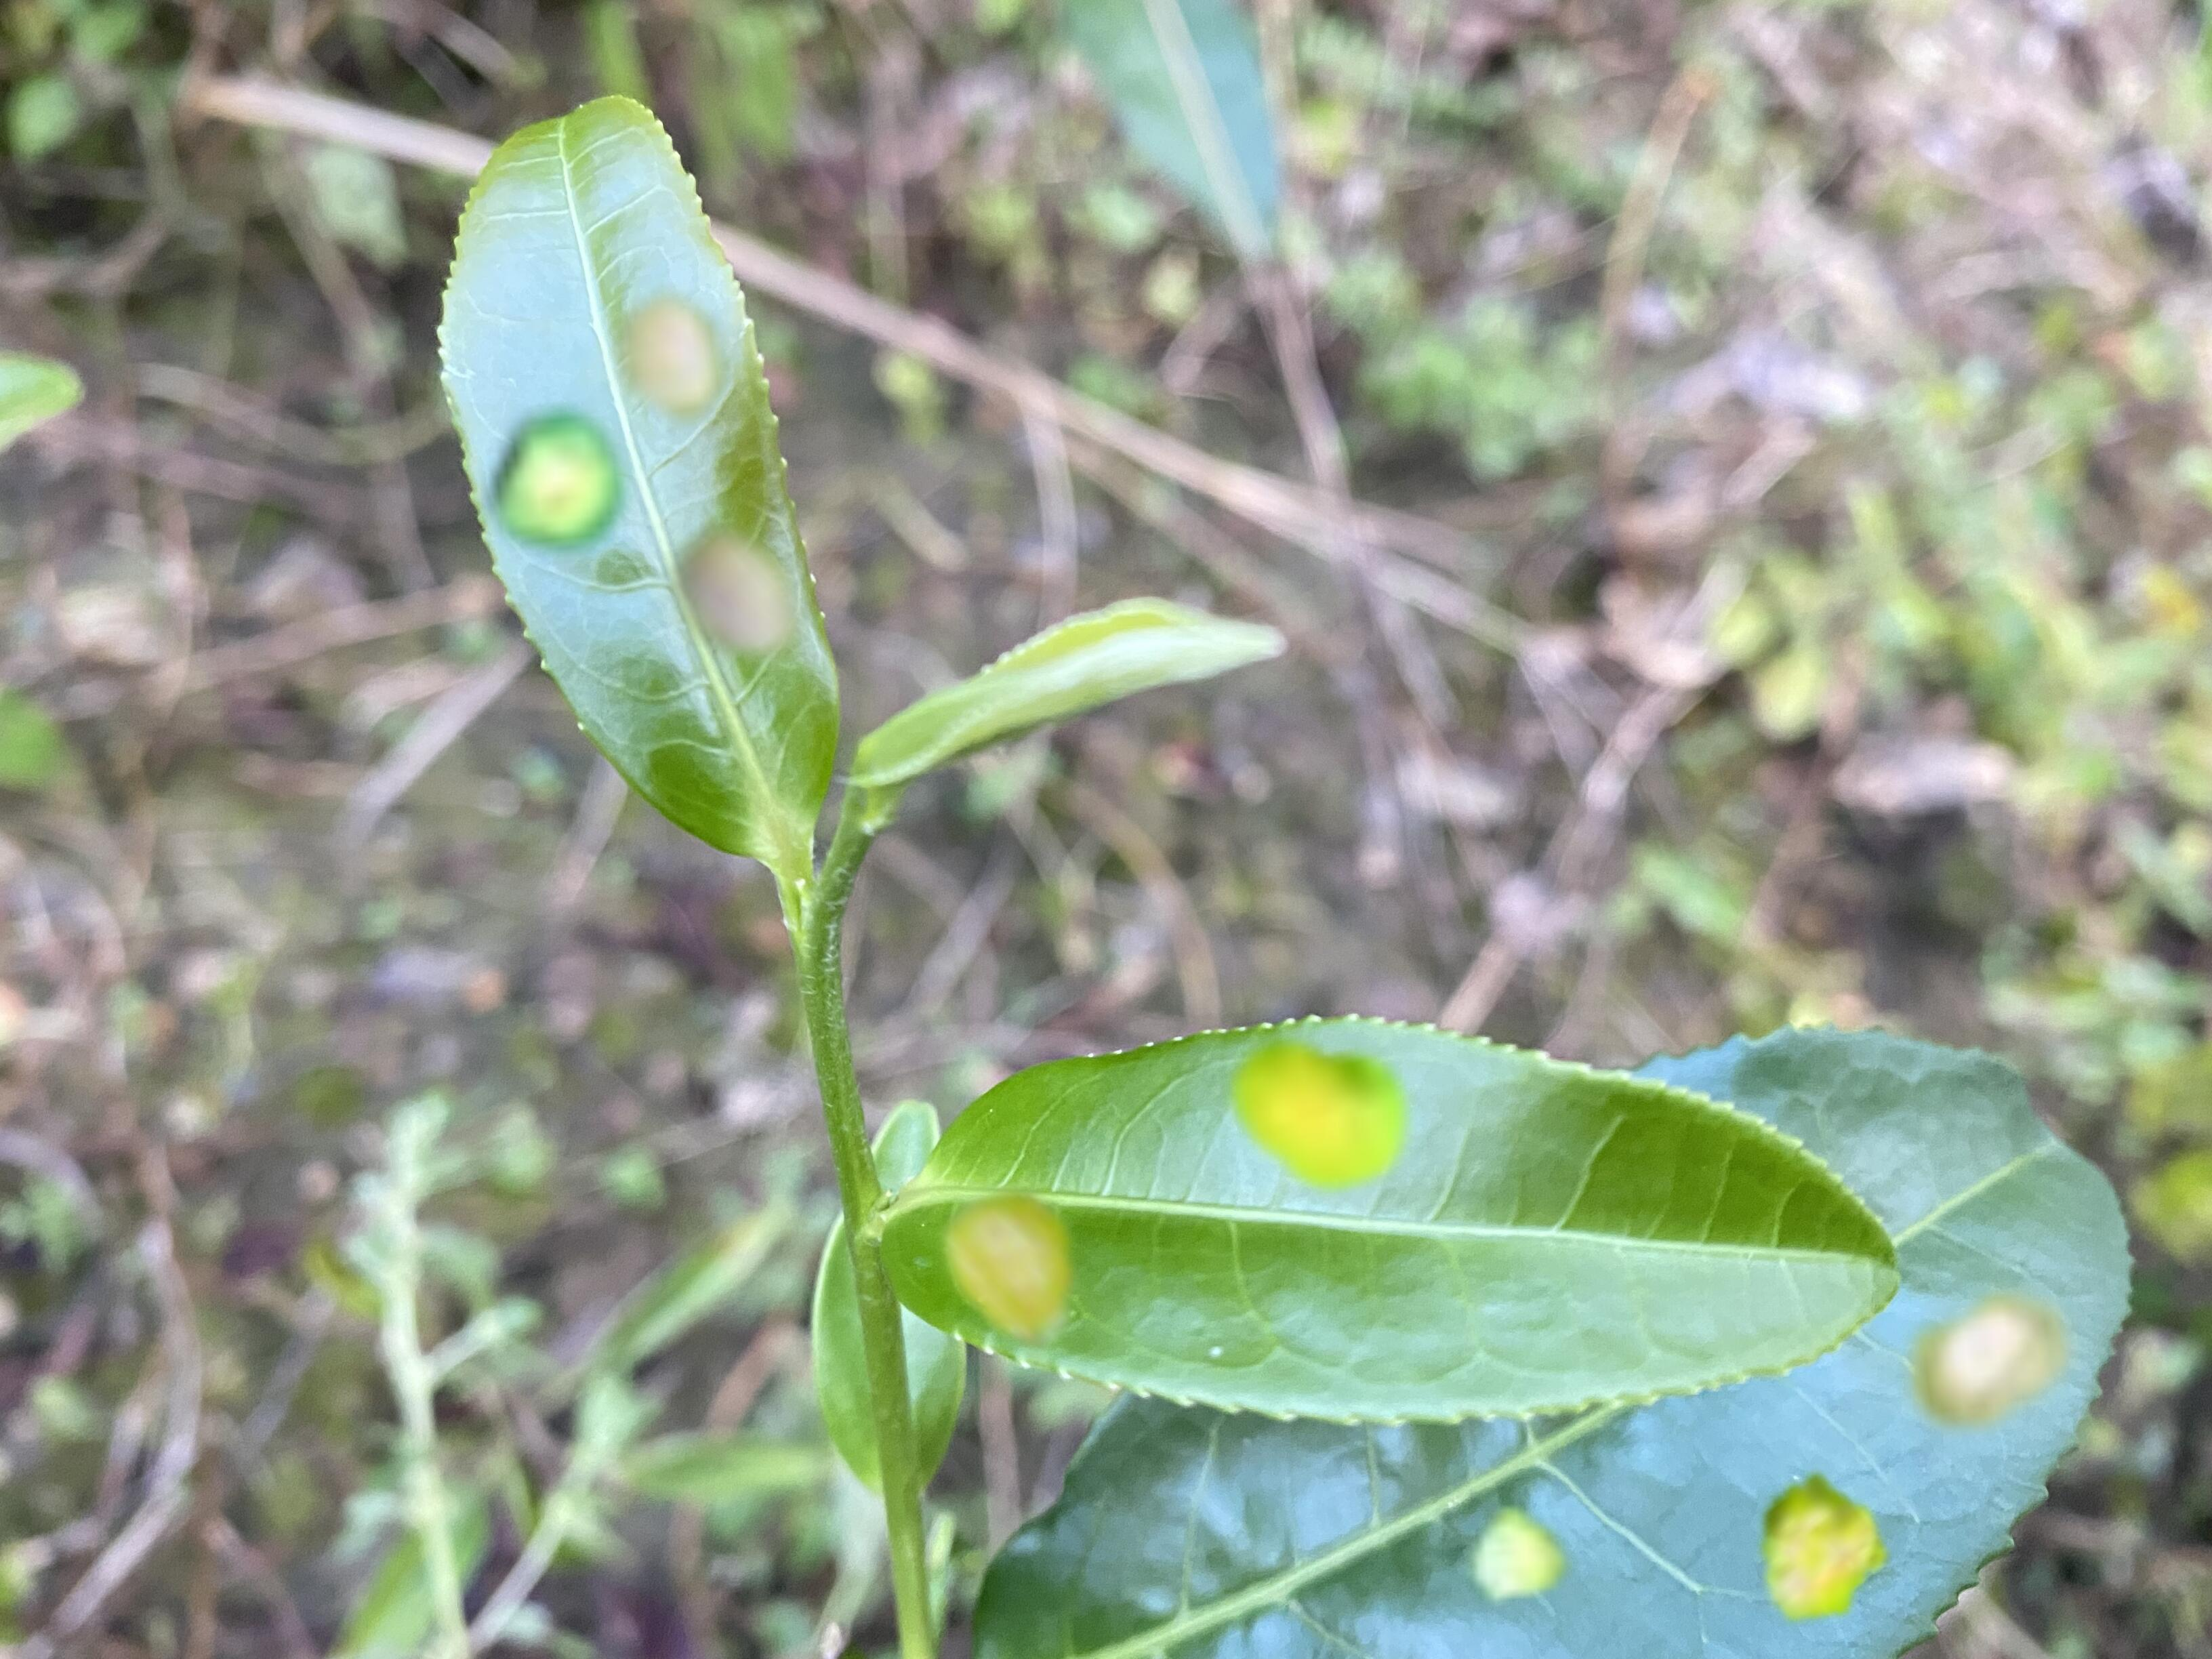chabing_high: (970, 1021, 2137, 1659), (885, 1012, 1902, 1403), (435, 96, 845, 864)
